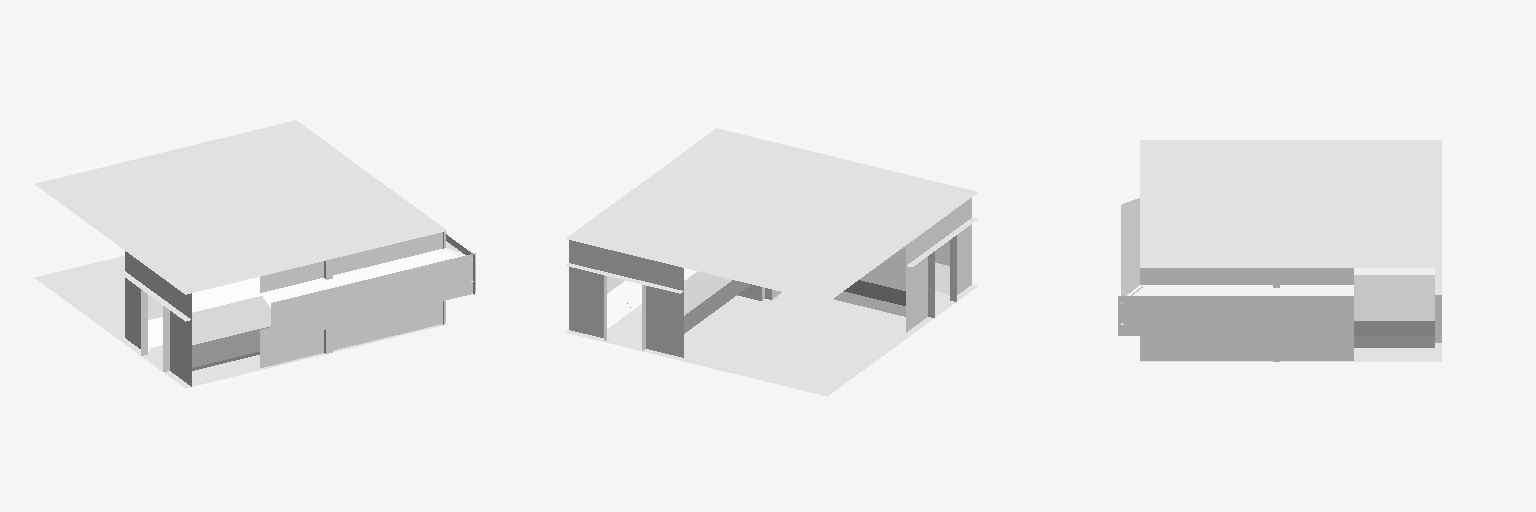
Rendered from HC_room2C.obj.
The picture shows the model from 3 angles: view 1: azimuth 30°, elevation 25°; view 2: azimuth 150°, elevation 25°; view 3: azimuth 270°, elevation 25°; orthographic projection.
Parts seen in each view (by area): view 1: room2Ctunnels; view 2: room2Ctunnels; view 3: room2Ctunnels.
Part boxes in pixels (x1,y1,x2,y2): room2Ctunnels: (35,120,475,388); room2Ctunnels: (565,128,977,396); room2Ctunnels: (1118,140,1441,361).
Bounding box in the file's own units: 14.08 × 4.48 × 14.08.